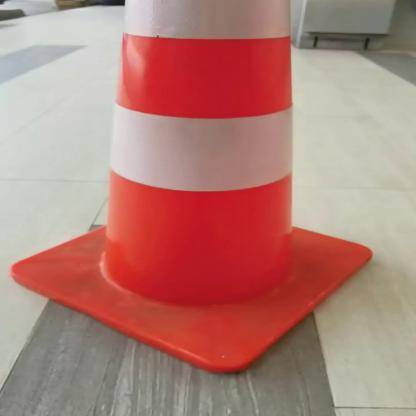cone: (7, 0, 389, 379)
